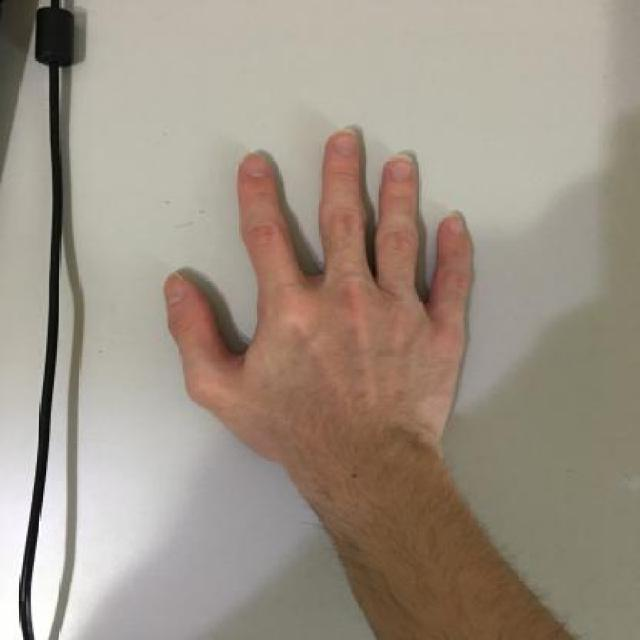bare_hand: (143, 120, 494, 508)
